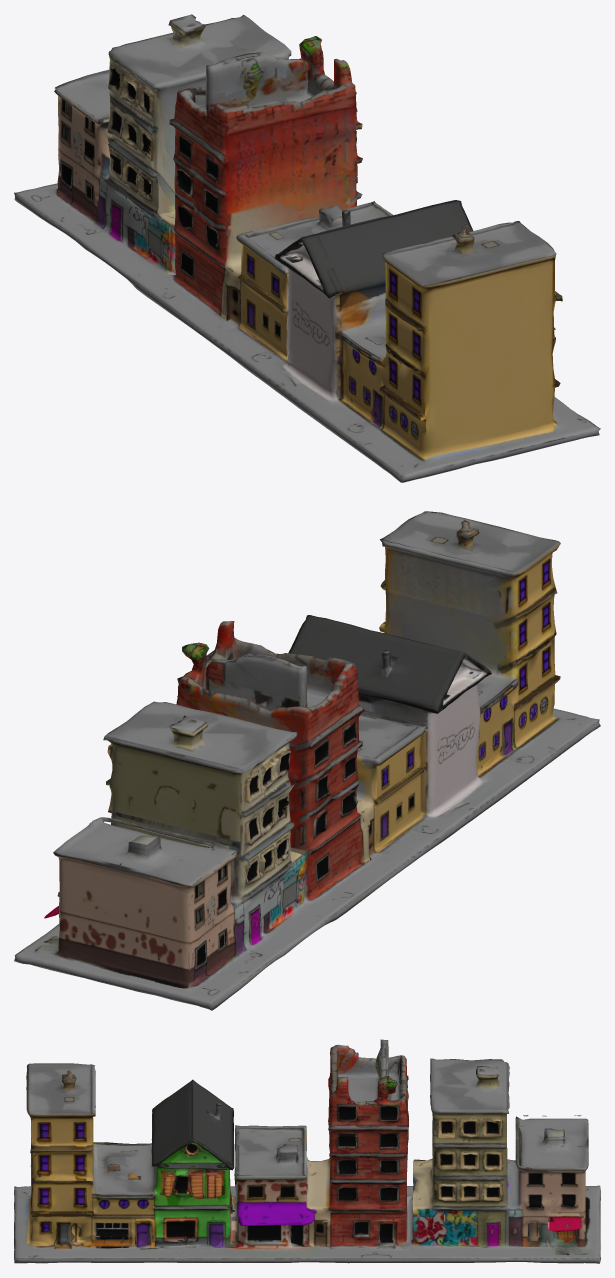
Rendered from city+block+1.fbx.
3 renders of one model, top to bottom at view 1: azimuth 30°, elevation 25°; view 2: azimuth 150°, elevation 25°; view 3: azimuth 270°, elevation 25°, orthographic. The views are drawn at different scales.
Visible parts, largest first — view 1: tripo_node_d7a0126b; view 2: tripo_node_d7a0126b; view 3: tripo_node_d7a0126b.
Boxes of the visible parts, x1=… form: tripo_node_d7a0126b: x1=14, y1=14, x2=600, y2=482; tripo_node_d7a0126b: x1=14, y1=511, x2=600, y2=1010; tripo_node_d7a0126b: x1=14, y1=1039, x2=600, y2=1263.
Size of the model in its own units: 0.2968 by 0.3241 by 1.
Materials: 1 (1 with a texture image).
